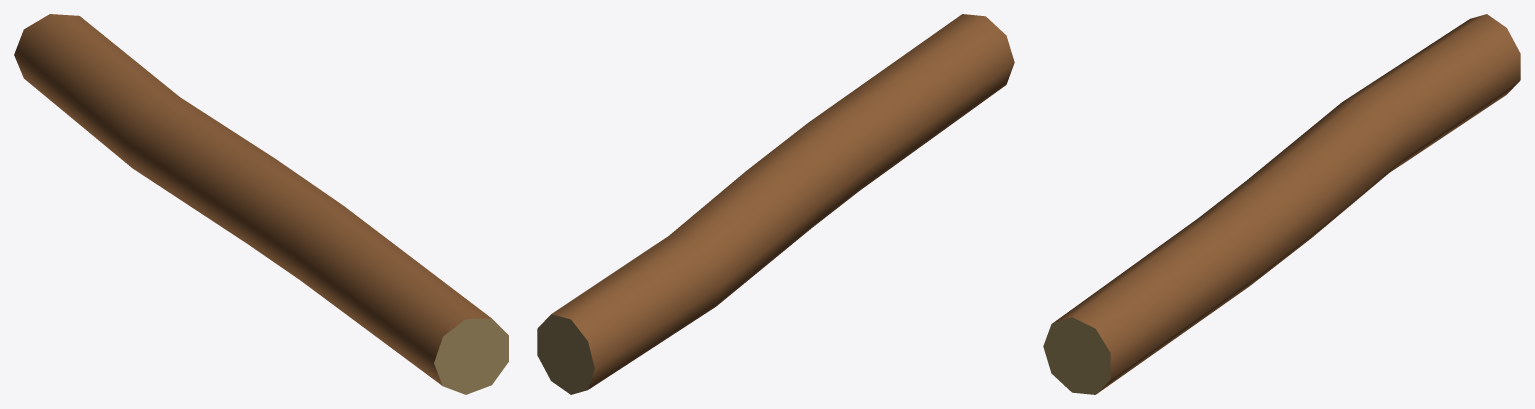
File: woodenpillar.glb
3 renders of one model, left to right at view 1: azimuth 30°, elevation 25°; view 2: azimuth 150°, elevation 25°; view 3: azimuth 330°, elevation 25°, orthographic.
Visible parts, largest first — view 1: Environment_Sawmill; view 2: Environment_Sawmill; view 3: Environment_Sawmill.
Boxes of the visible parts, x1,y1,x2,y2 form: Environment_Sawmill: [14, 14, 508, 394]; Environment_Sawmill: [537, 14, 1014, 394]; Environment_Sawmill: [1043, 14, 1520, 394].
Bounding box in the file's own units: 0.2319 × 0.2045 × 2.02.
1 material, 1 textured.
